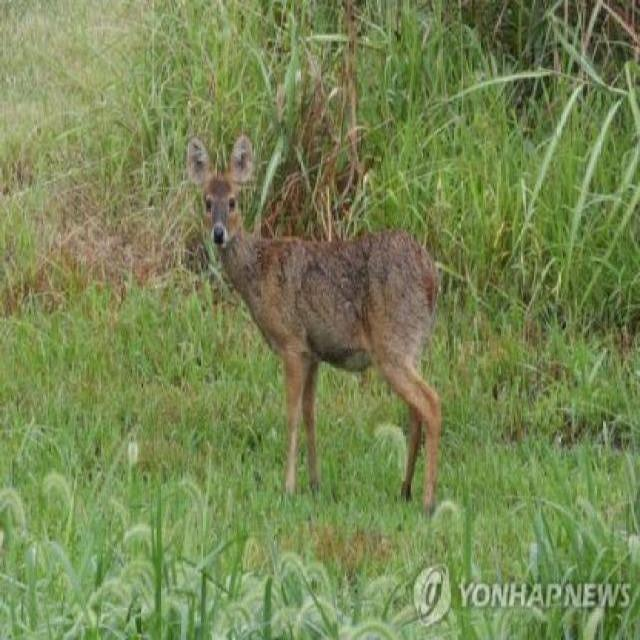deer: (186, 129, 445, 516)
